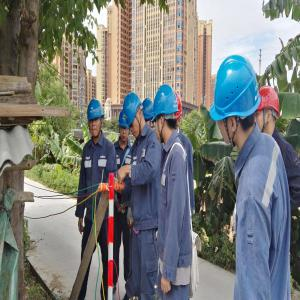blue: (215, 55, 261, 151), (153, 84, 179, 145), (124, 92, 144, 138), (88, 97, 104, 140), (142, 97, 155, 132), (119, 109, 131, 143)
red: (256, 88, 280, 138)
